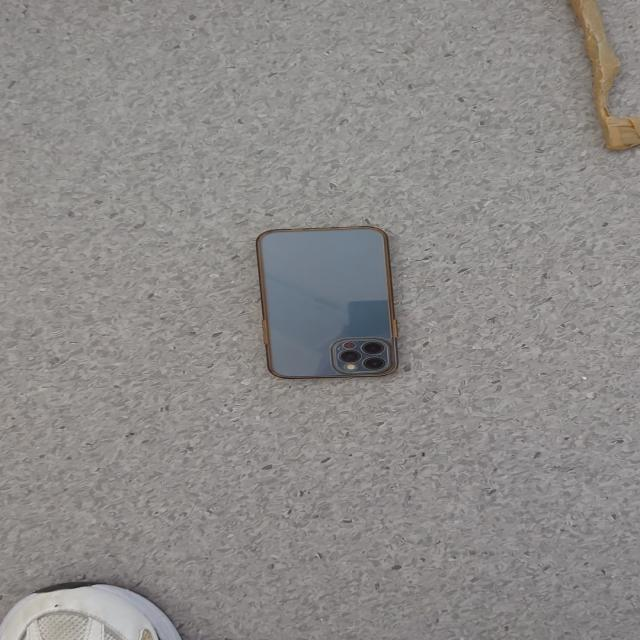phone: (254, 225, 398, 379)
